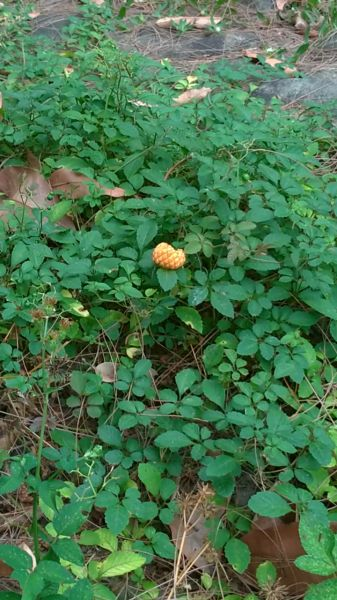eggs: (150, 239, 187, 273)
